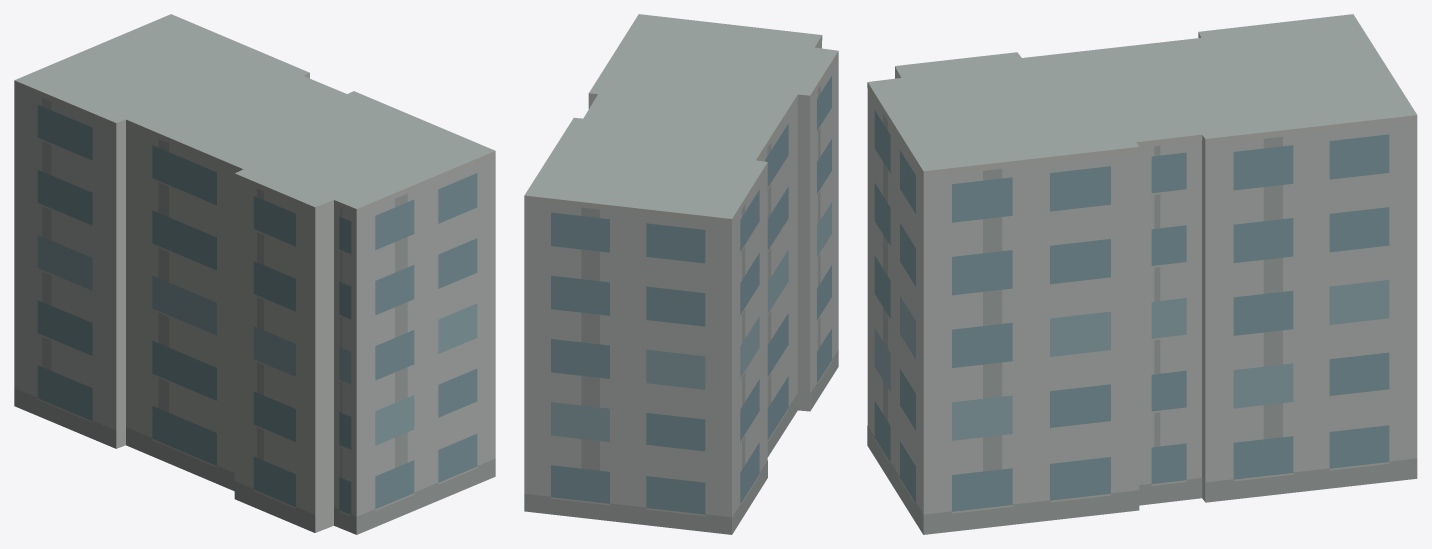
File: survey-upis-33020206.glb
The picture shows the model from 3 angles, left to right: view 1: azimuth 30°, elevation 25°; view 2: azimuth 150°, elevation 25°; view 3: azimuth 270°, elevation 25°; orthographic projection. The views are drawn at different scales.
Parts seen in each view (by area): view 1: survey-upis-33020206.tmp; view 2: survey-upis-33020206.tmp; view 3: survey-upis-33020206.tmp.
Part boxes in pixels (x1=…): survey-upis-33020206.tmp: x1=14, y1=14, x2=495, y2=534; survey-upis-33020206.tmp: x1=524, y1=14, x2=838, y2=534; survey-upis-33020206.tmp: x1=867, y1=14, x2=1417, y2=534.
Bounding box in the file's own units: 12.9 × 13.9 × 19.06.
